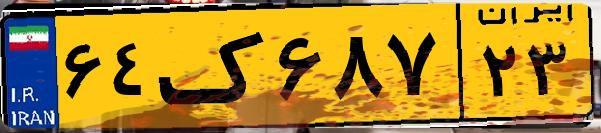2: (475, 38, 525, 113)
3: (525, 38, 570, 115)
4: (110, 28, 158, 98)
6: (270, 28, 330, 110), (57, 26, 110, 100)
7: (385, 28, 445, 110)
8: (330, 28, 385, 110)
ک: (158, 12, 270, 120)
